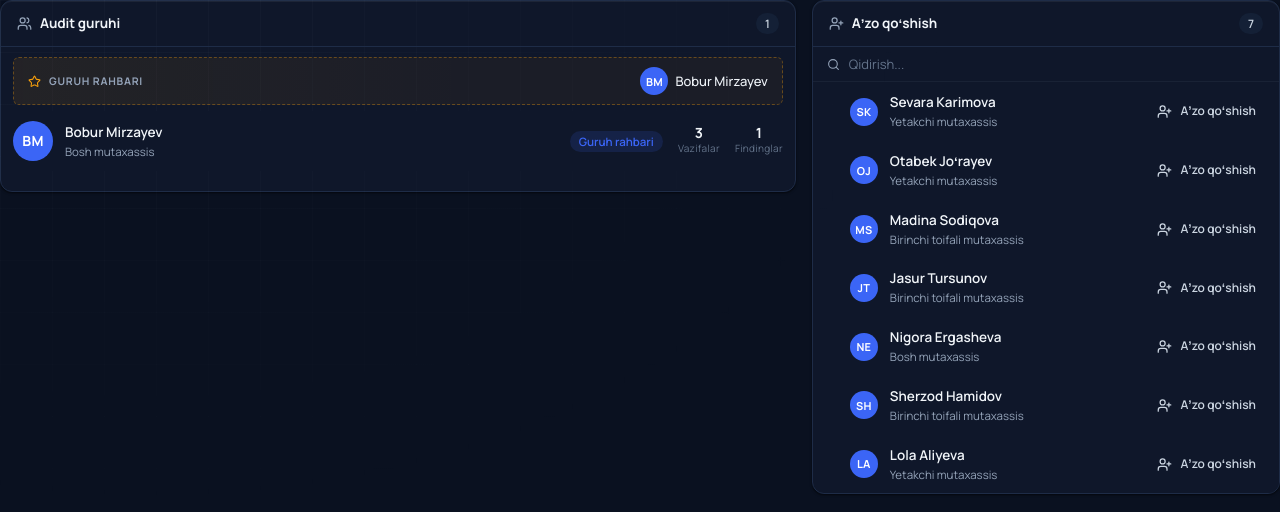
Test: Group tab › shows no-results message when search matches nobody
Type "xxxxxxxxxx" into the field with placeholder "Qidirish..." at (1056, 64), box [847, 54, 1265, 74]
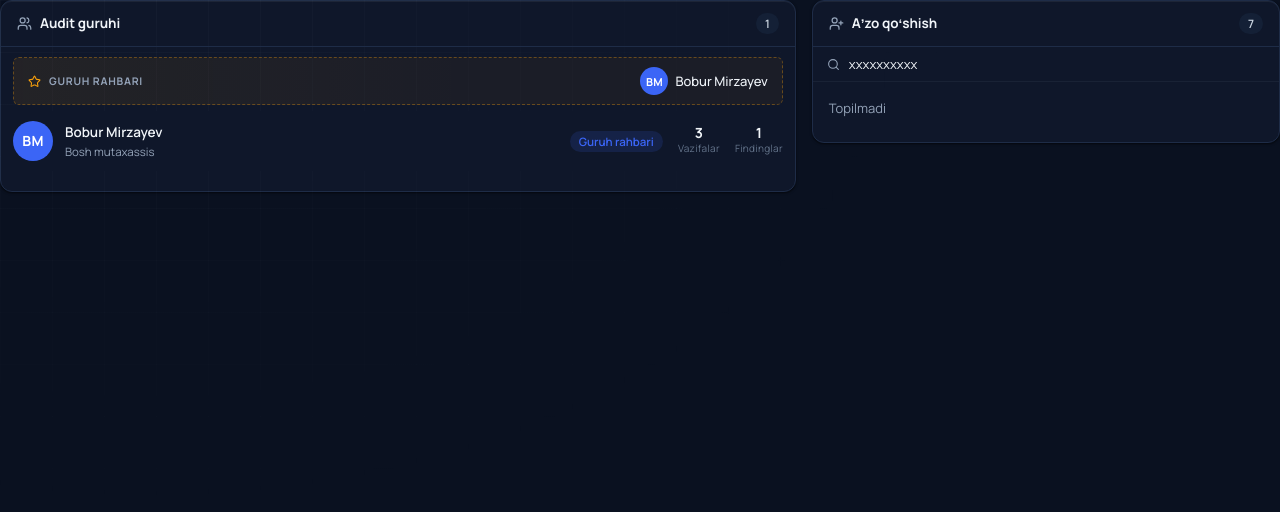
Expected: the text "Topilmadi" is shown, [829, 99, 886, 117]
